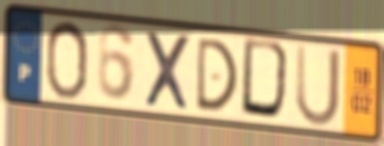6: (97, 20, 138, 110)
D: (239, 36, 296, 125), (194, 36, 240, 114)
O: (43, 19, 91, 102)
U: (294, 42, 343, 130)
X: (143, 27, 192, 114)
